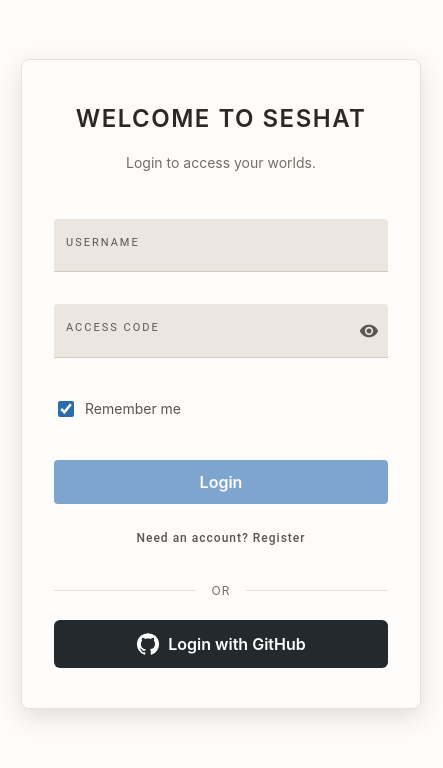
Test: AuthPage Edge-to-Edge › toggles between login and register mode
This screenshot has width=443, height=768.
Click the button "Need an account? Register" at (221, 538), box [54,516,388,561]
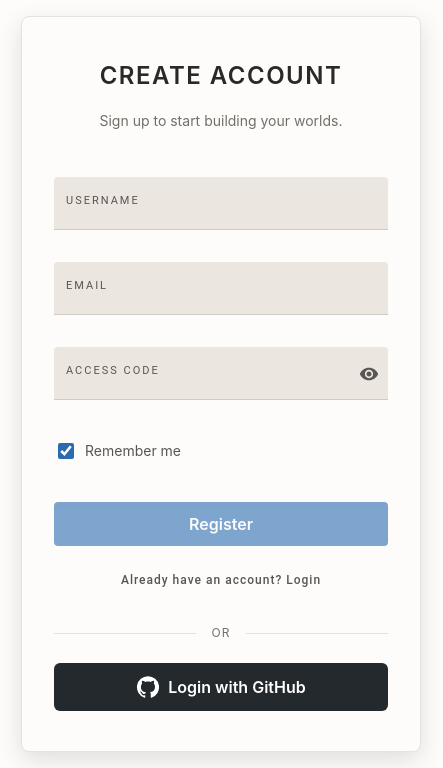
Now the heading "Create Account" is shown, box [100,61,342,90]
Now the field with placeholder "For password recovery" is shown, box [54,262,388,315]
Now the button "Register" is shown, box [54,502,388,546]
Click the button "Already have an account? Login" at (221, 581), box [54,558,388,604]
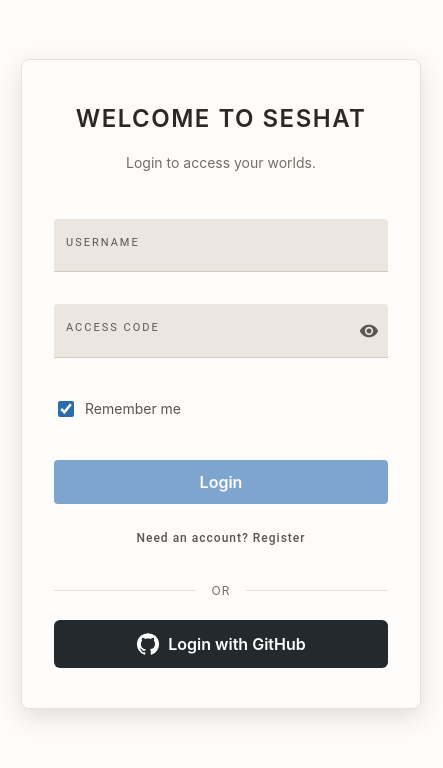
Expected: the field with placeholder "For password recovery" is not shown
Now the heading "Welcome to Seshat" is shown, box [54,100,388,138]
